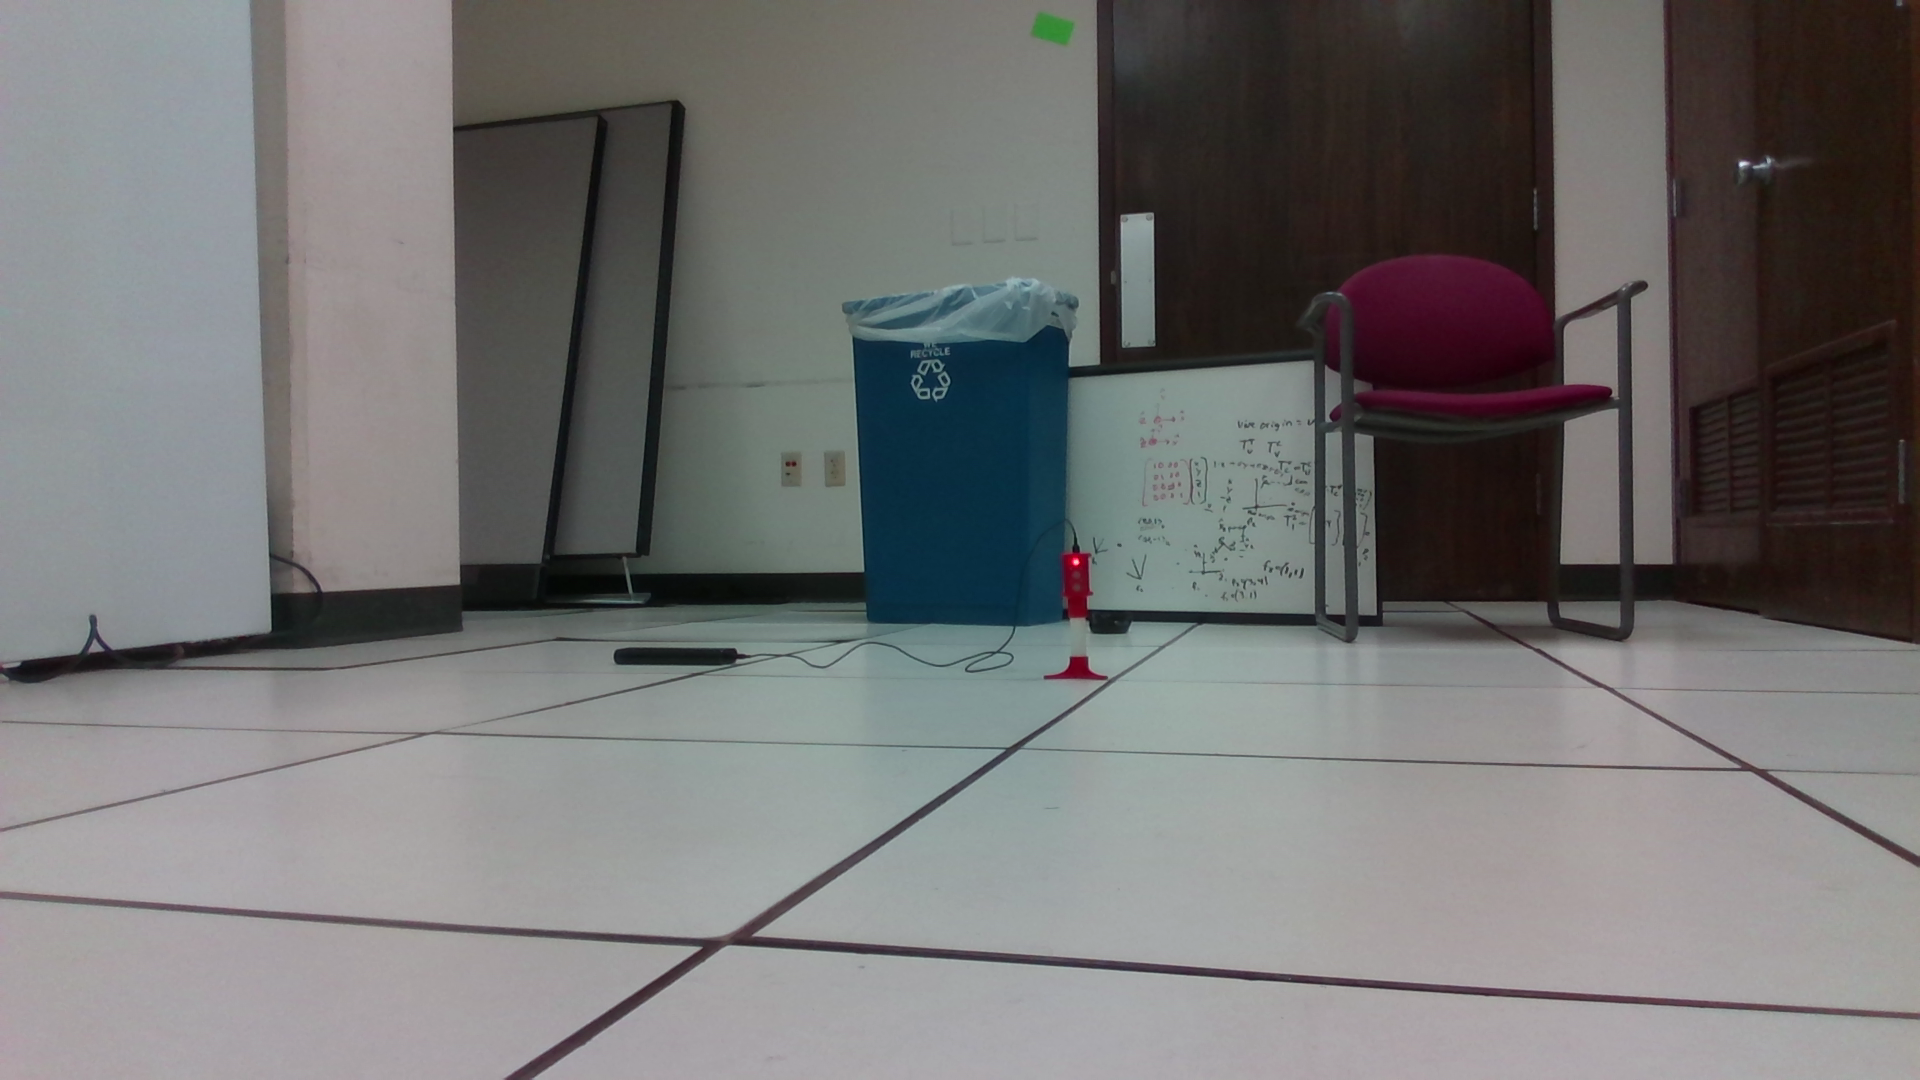stoplight: (1060, 553, 1097, 612)
